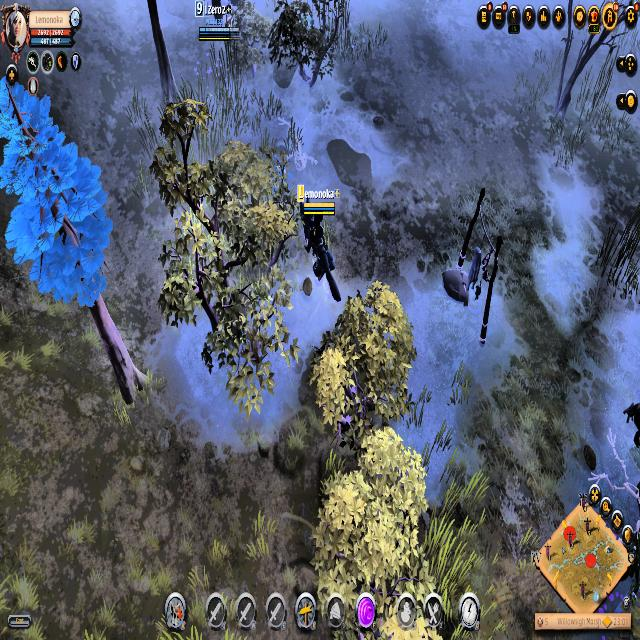wood tier 4: (0, 96, 116, 308)
